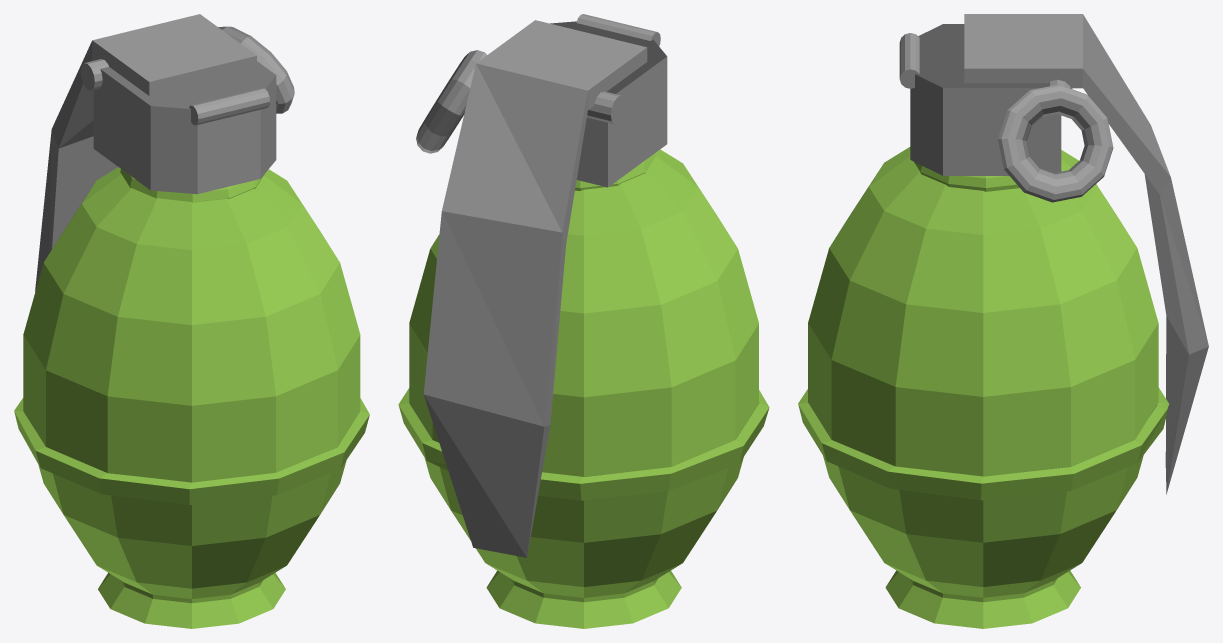
Rendered from scene_aRqlwqeD6i.glb.
3 renders of one model, left to right at view 1: azimuth 30°, elevation 25°; view 2: azimuth 150°, elevation 25°; view 3: azimuth 270°, elevation 25°, orthographic. The views are drawn at different scales.
Parts seen in each view (by area): view 1: Node; view 2: Node; view 3: Node.
Boxes of the visible parts, <box> form: Node: <box>14,14,369,628</box>; Node: <box>398,14,769,628</box>; Node: <box>798,14,1208,628</box>.
Size of the model in its own units: 0.3455 by 0.56 by 0.381.
